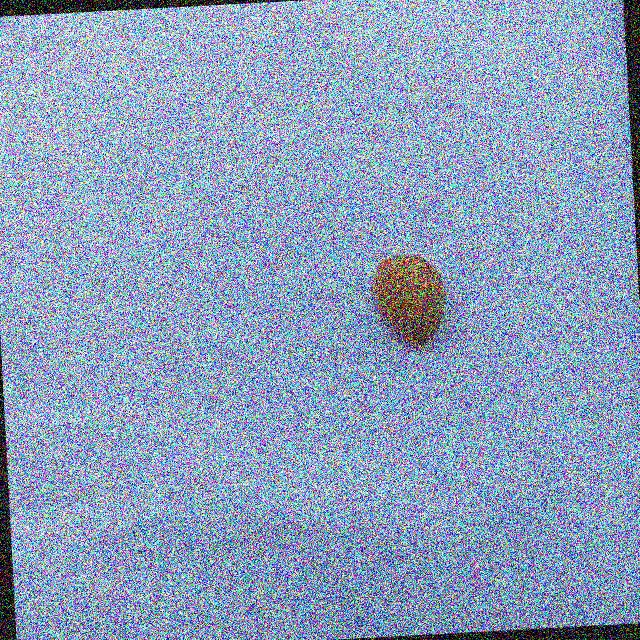grade2: (366, 250, 451, 350)
